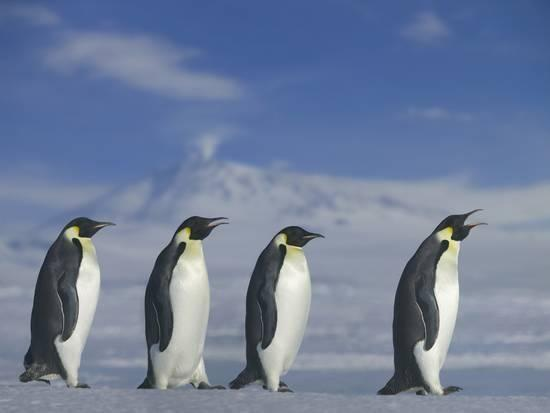emporer: (373, 212, 522, 413), (134, 197, 235, 413), (19, 206, 120, 403), (241, 205, 328, 404)
